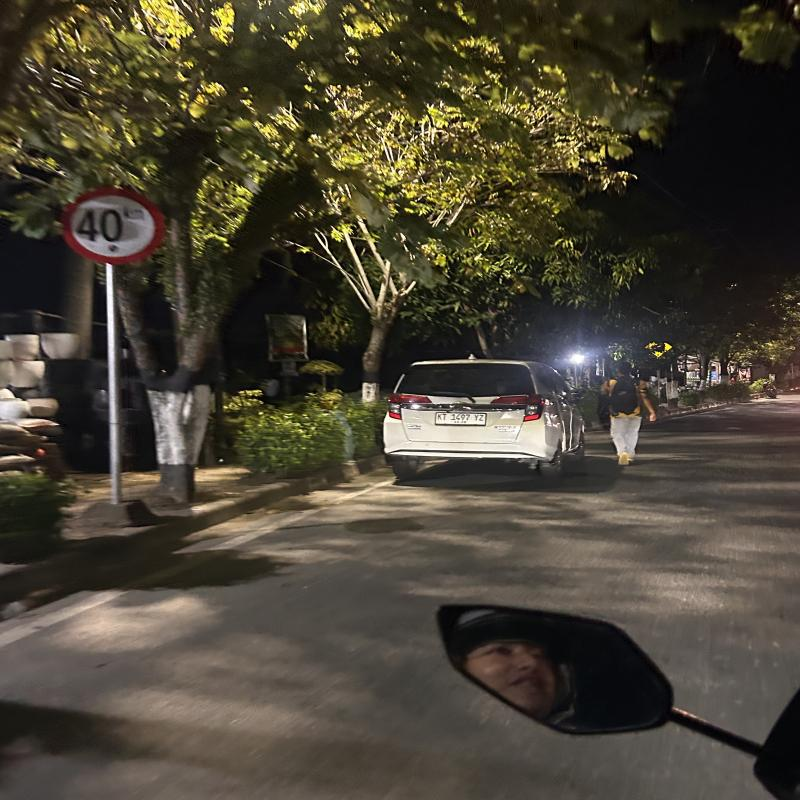license plate on a car: (436, 409, 491, 426)
